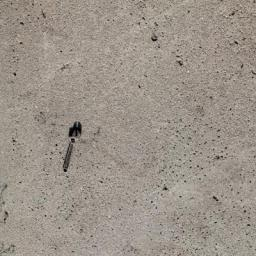FOD: (58, 121, 87, 176)
